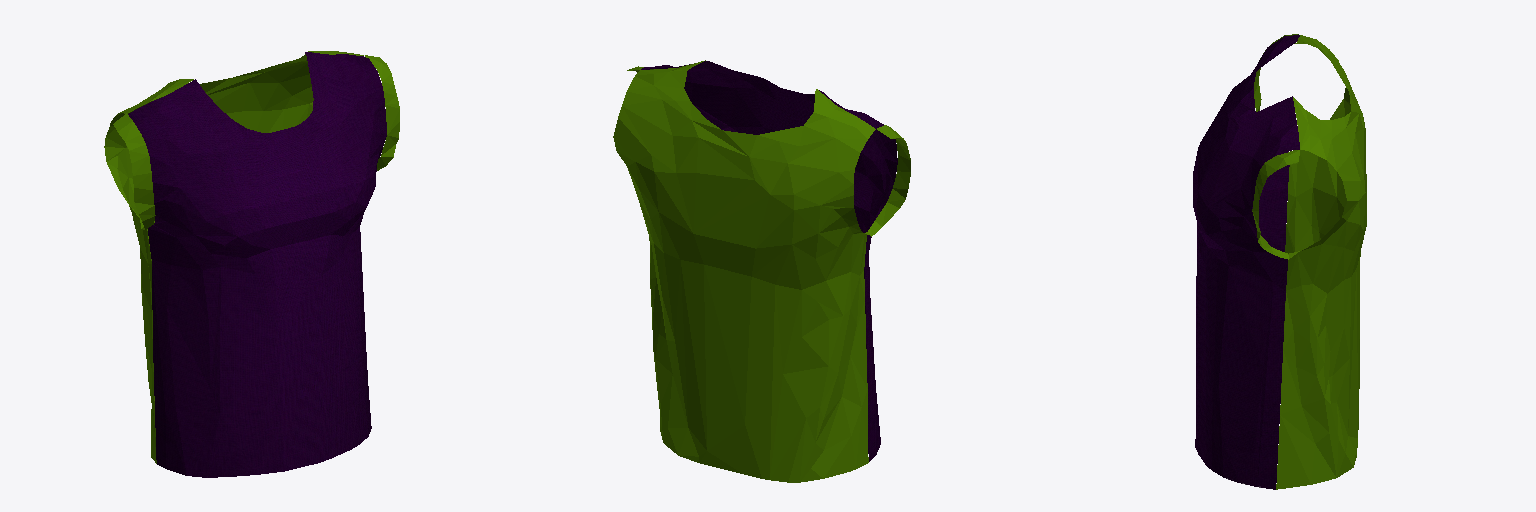
3 views of the same model, side by side, from view 1: azimuth 30°, elevation 25°; view 2: azimuth 150°, elevation 25°; view 3: azimuth 270°, elevation 25° (orthographic).
Parts seen in each view (by area): view 1: T_shirt.006; view 2: T_shirt.006; view 3: T_shirt.006.
Part boxes in pixels (x1,y1,x2,y2): T_shirt.006: (104,51,399,477); T_shirt.006: (613,60,910,482); T_shirt.006: (1193,34,1366,489).
Size of the model in its own units: 0.2935 by 0.3892 by 0.1639.
2 materials, 1 textured.